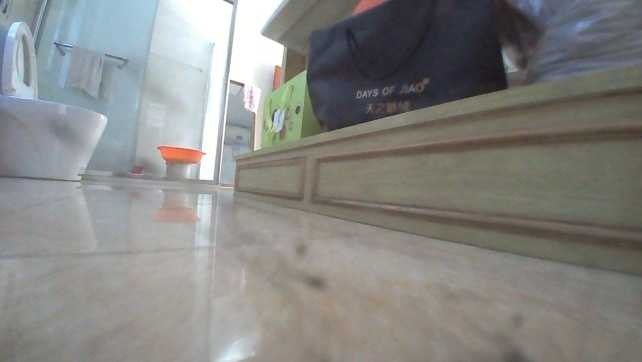toilet: (0, 22, 109, 184)
